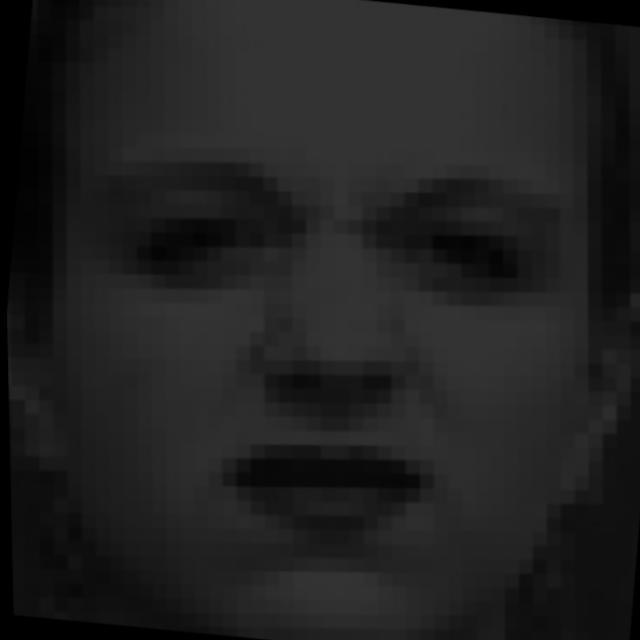Disgust: (47, 102, 640, 612)
